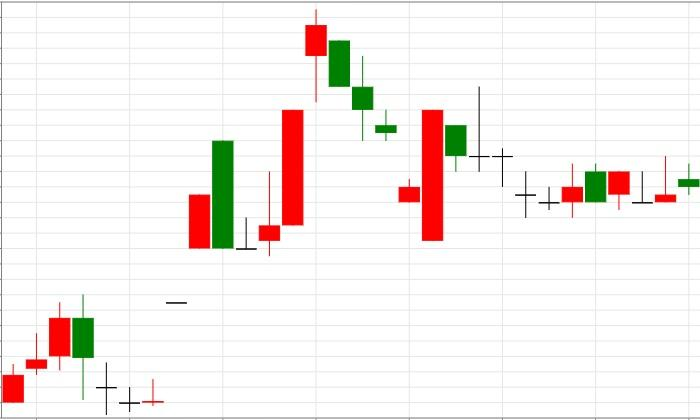bearish_engulfing_fall: (2, 294, 94, 403)
